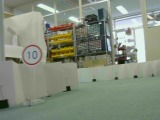speed_10: (21, 43, 43, 66)
